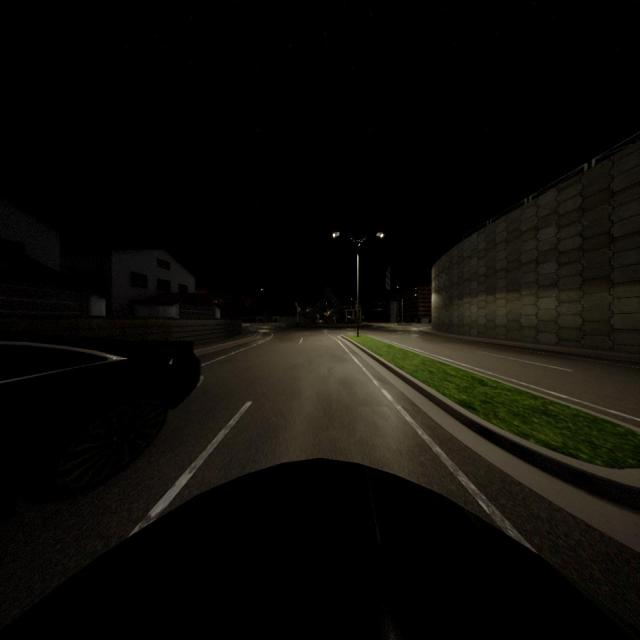Vehicle: (0, 459, 637, 638), (0, 342, 200, 488)
